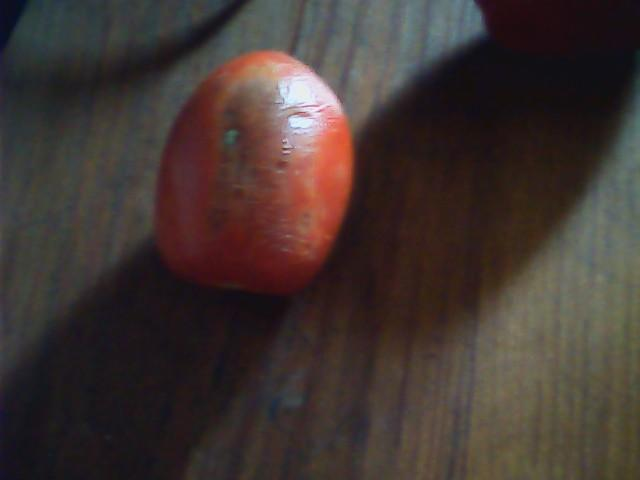defectuoso: (158, 51, 355, 297)
